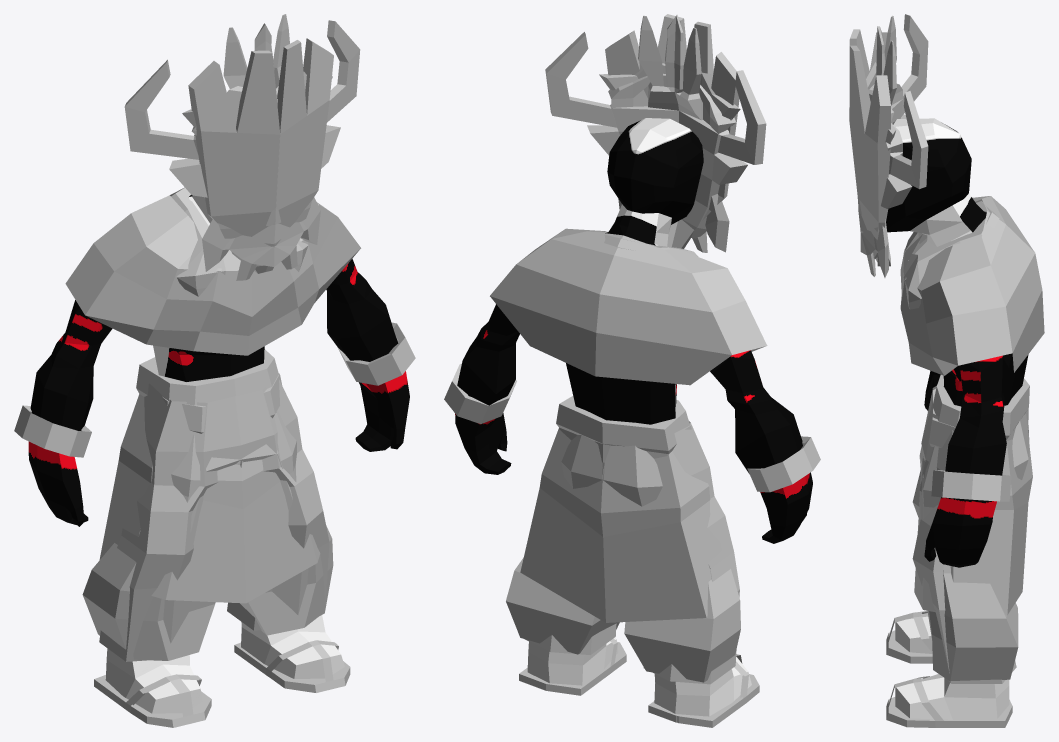
Rendered from experimento.fbx.
3 views of the same model, side by side, from view 1: azimuth 30°, elevation 25°; view 2: azimuth 150°, elevation 25°; view 3: azimuth 270°, elevation 25° (orthographic). The views are drawn at different scales.
Parts seen in each view (by area): view 1: Ropa1, Ropa3, Cube, Mascara1, Ropa2, Mascara3, Mascara4; view 2: Ropa1, Cube, Mascara3, Ropa3, Ropa2, Mascara1, Mascara4; view 3: Ropa1, Cube, Ropa2, Ropa3, Mascara1, Mascara3, Mascara4.
Part boxes in pixels (x1,y1,x2,y2): Ropa1: (65, 187, 360, 727); Ropa3: (14, 322, 415, 727); Cube: (28, 135, 409, 713); Mascara1: (188, 38, 333, 273); Ropa2: (82, 188, 333, 660); Mascara3: (124, 14, 360, 266); Mascara4: (182, 71, 332, 280); Ropa1: (490, 228, 767, 722); Cube: (455, 118, 812, 716); Mascara3: (545, 14, 766, 238); Ropa3: (444, 363, 820, 727); Ropa2: (506, 231, 740, 682); Mascara1: (605, 14, 739, 248); Mascara4: (599, 62, 740, 252); Ropa1: (886, 196, 1044, 727); Cube: (886, 118, 1028, 720); Ropa2: (903, 201, 1029, 681); Ropa3: (886, 385, 1029, 727); Mascara1: (849, 29, 890, 266); Mascara3: (857, 14, 928, 258); Mascara4: (858, 62, 896, 277).
Size of the model in its own units: 404 by 688 by 186.
